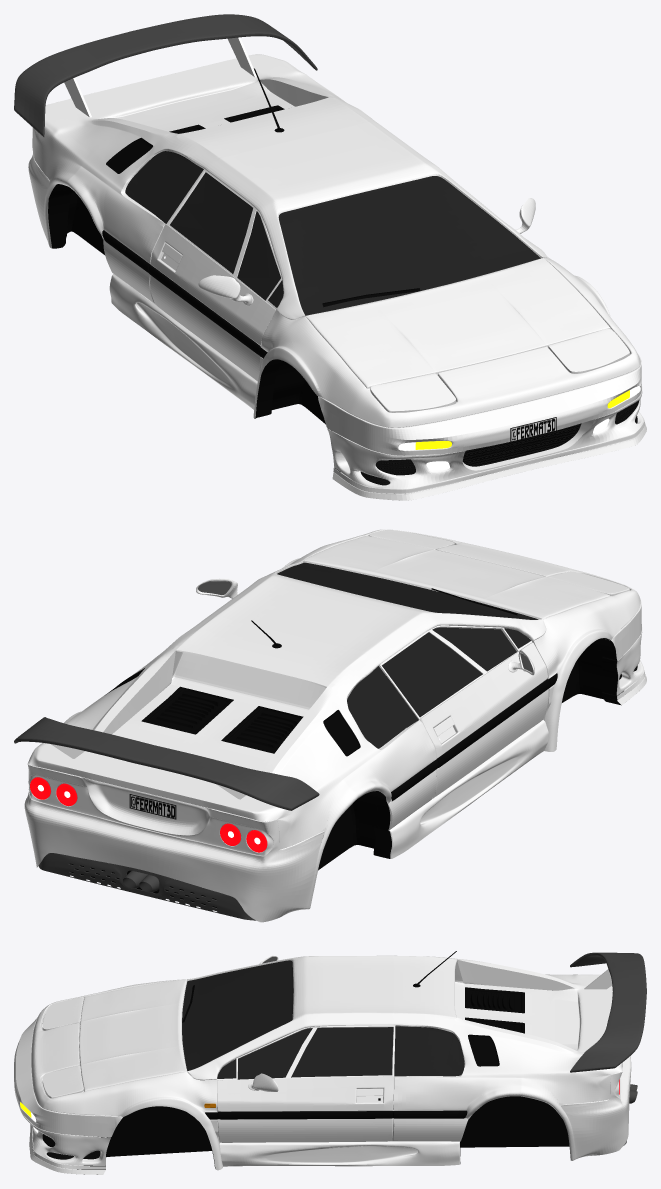
File: LotusEspirit.glb
3 views of the same model, one above another, from view 1: azimuth 30°, elevation 25°; view 2: azimuth 150°, elevation 25°; view 3: azimuth 270°, elevation 25° (orthographic). The views are drawn at different scales.
Parts seen in each view (by area): view 1: Car.003; view 2: Car.003; view 3: Car.003.
Part boxes in pixels (left/top/right/bottom): Car.003: left=14, top=14, right=646, bottom=500; Car.003: left=14, top=529, right=646, bottom=922; Car.003: left=14, top=951, right=646, bottom=1174.
Bounding box in the file's own units: 1.64 × 0.9906 × 3.38.
22 materials, 2 textured.
